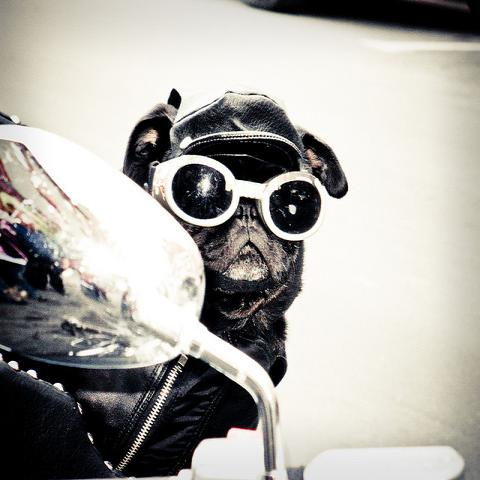motorcycle: (1, 124, 286, 472)
